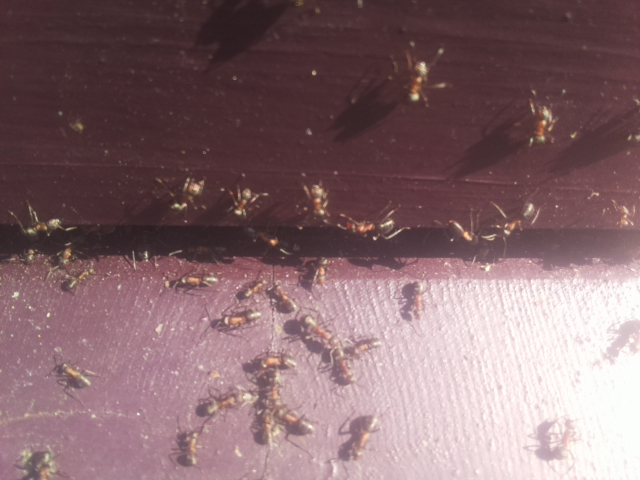ant: (490, 191, 542, 249), (591, 314, 640, 372), (342, 407, 387, 468), (162, 169, 214, 218), (523, 89, 560, 155), (292, 309, 341, 353), (237, 221, 293, 259), (187, 388, 247, 421), (300, 178, 338, 225), (12, 449, 68, 480), (223, 180, 262, 224), (401, 54, 436, 103), (273, 404, 320, 440), (49, 358, 95, 394), (208, 306, 263, 335), (265, 275, 297, 322), (18, 211, 68, 240), (550, 414, 580, 462), (405, 270, 428, 328), (342, 215, 399, 238), (57, 264, 99, 295), (156, 271, 220, 288), (235, 274, 271, 304), (178, 428, 203, 470), (253, 406, 271, 449), (309, 253, 330, 288)
